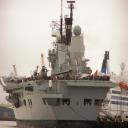Portanaves: (3, 1, 120, 128)
